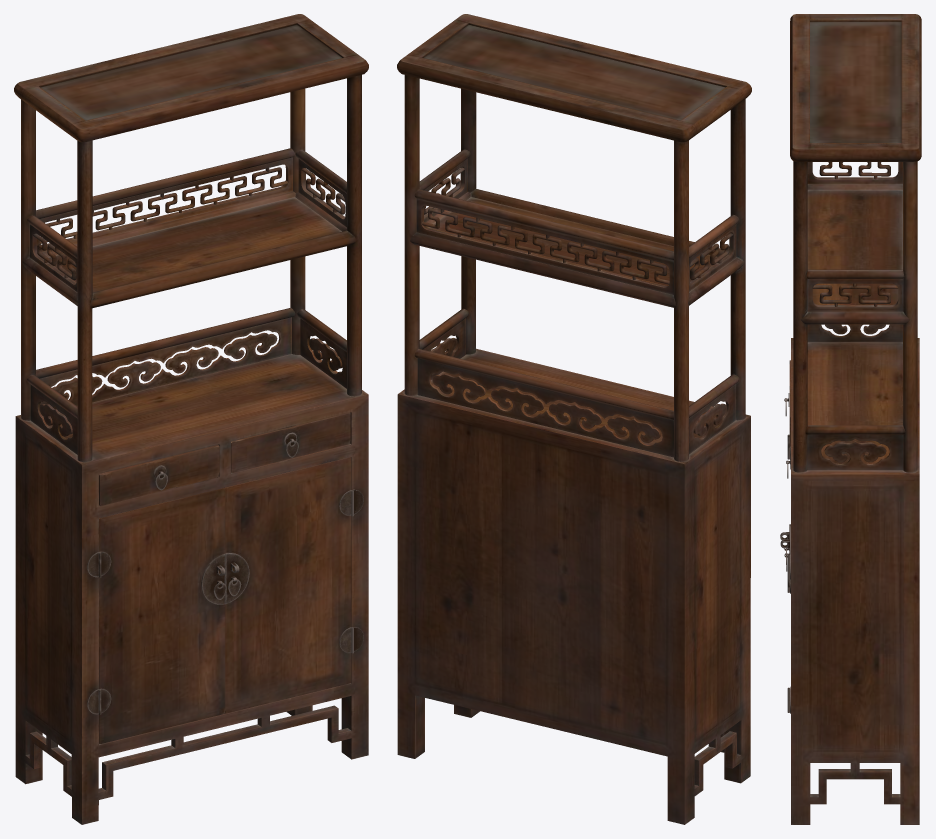
File: wardrobe-tall-shelf.glb
3 views of the same model, side by side, from view 1: azimuth 30°, elevation 25°; view 2: azimuth 150°, elevation 25°; view 3: azimuth 270°, elevation 25° (orthographic). The views are drawn at different scales.
Parts seen in each view (by area): view 1: wardrobe-tall-shelf; view 2: wardrobe-tall-shelf; view 3: wardrobe-tall-shelf.
Boxes of the visible parts, x1,y1,x2,y2 form: wardrobe-tall-shelf: (14,14,368,824); wardrobe-tall-shelf: (397,14,751,824); wardrobe-tall-shelf: (780,14,921,824).
Size of the model in its own units: 1.26 by 2.87 by 0.5452.
1 material, 1 textured.
